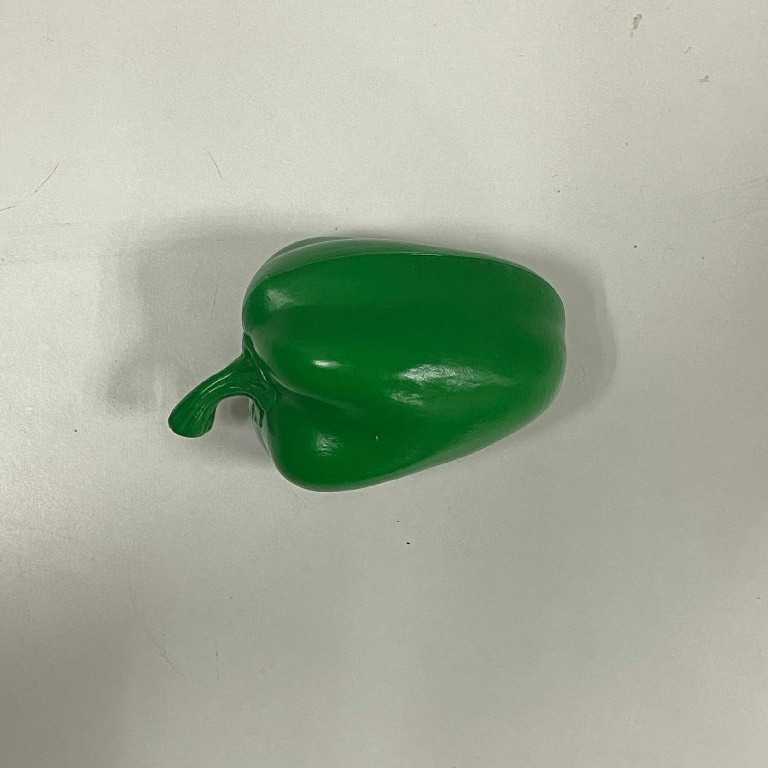fruit_pepper: (159, 229, 573, 496)
